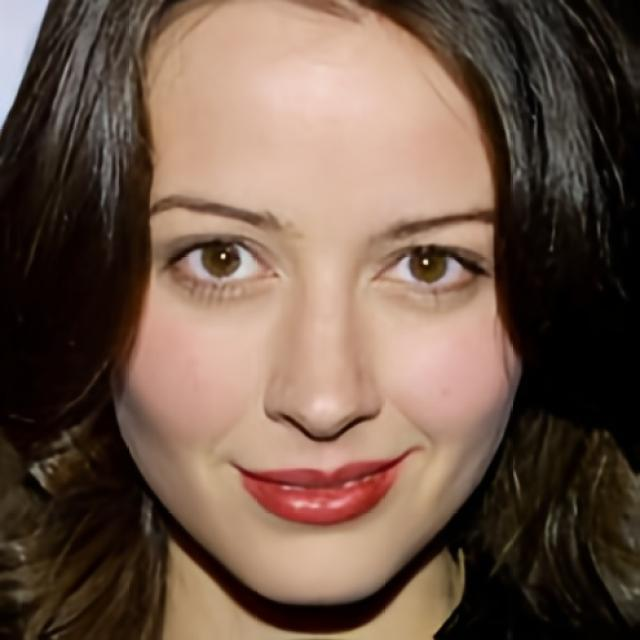content: (116, 0, 530, 605)
